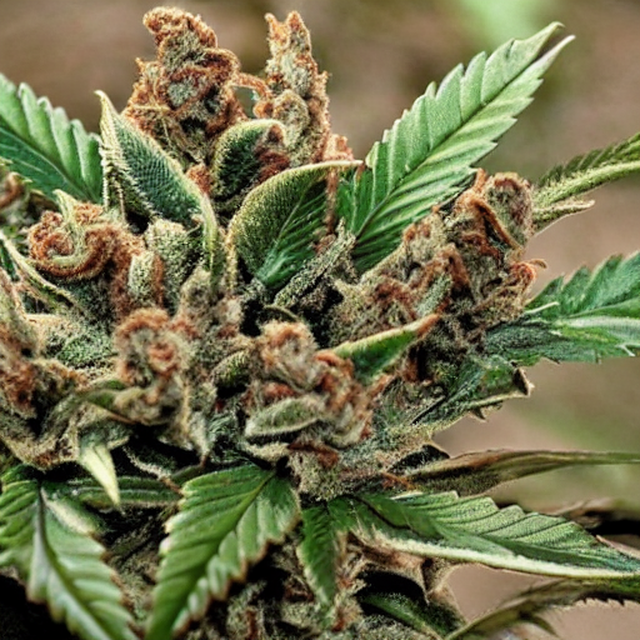Marijuana Joint: (1, 5, 577, 527)
